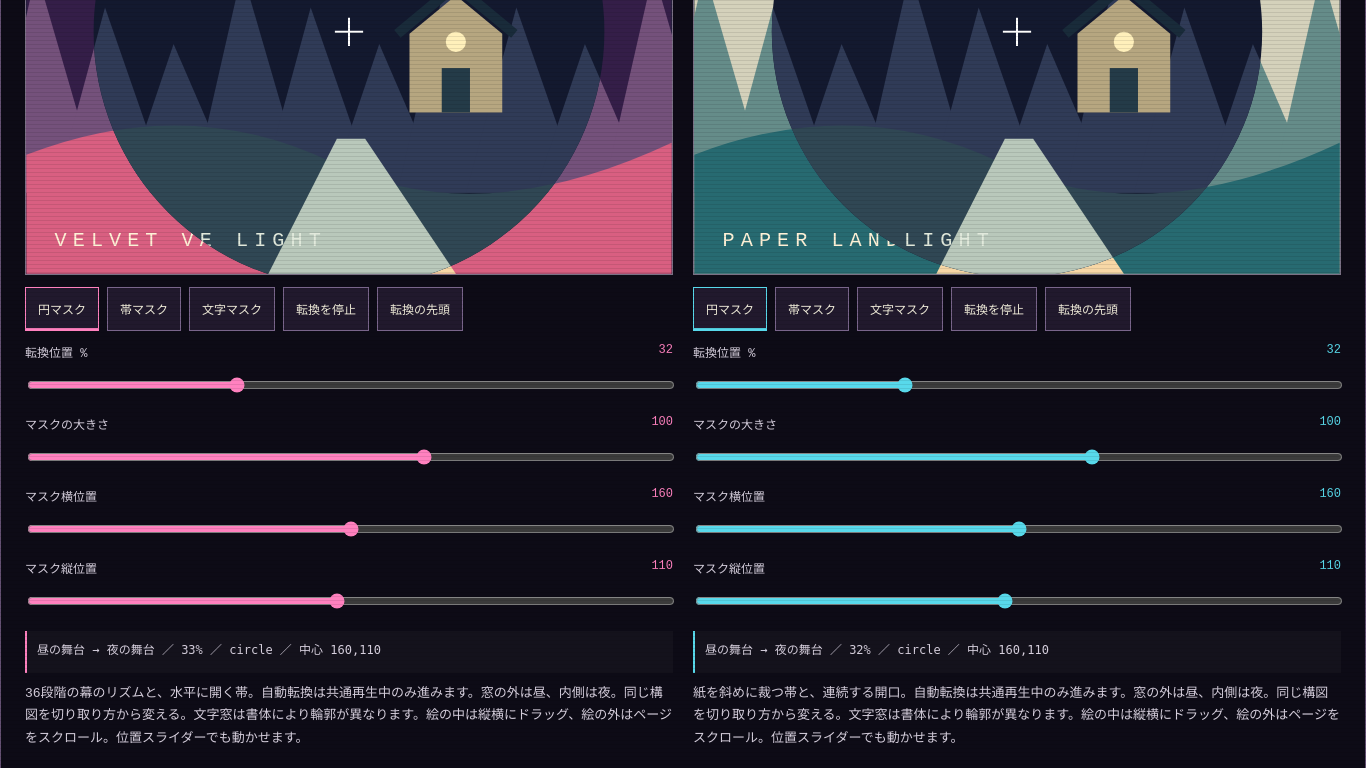
Test case: solo modes retain each side state, Reset resets the pair and reduced motion reports no automatic play
The width and height of the screenshot is (1366, 768).
(page scrolled)
Set the slider labelled "転換位置 %" below "VELVET VALLEY" to "73": {"x": 496, "y": 384} left=27, top=368, right=675, bottom=400
(page scrolled)
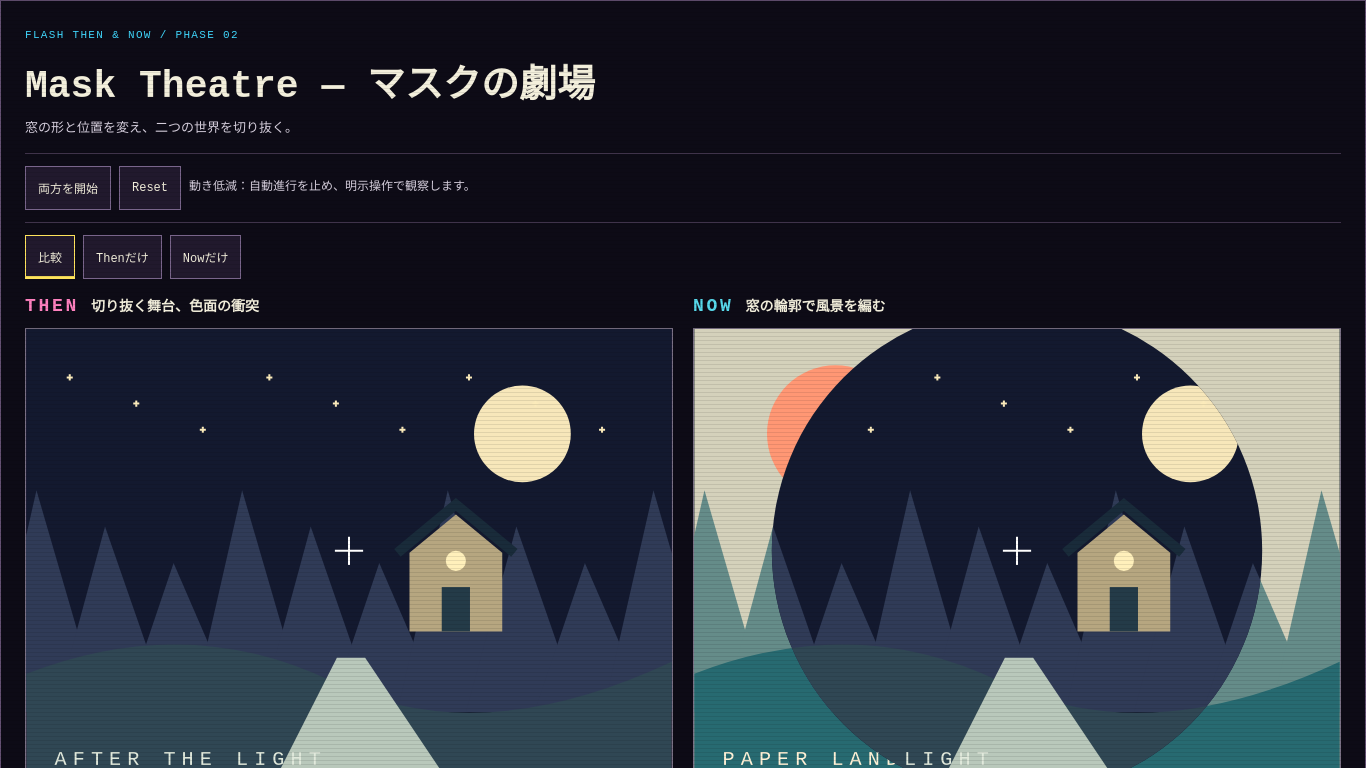
Click the button "Nowだけ": {"x": 206, "y": 257} left=170, top=235, right=241, bottom=279
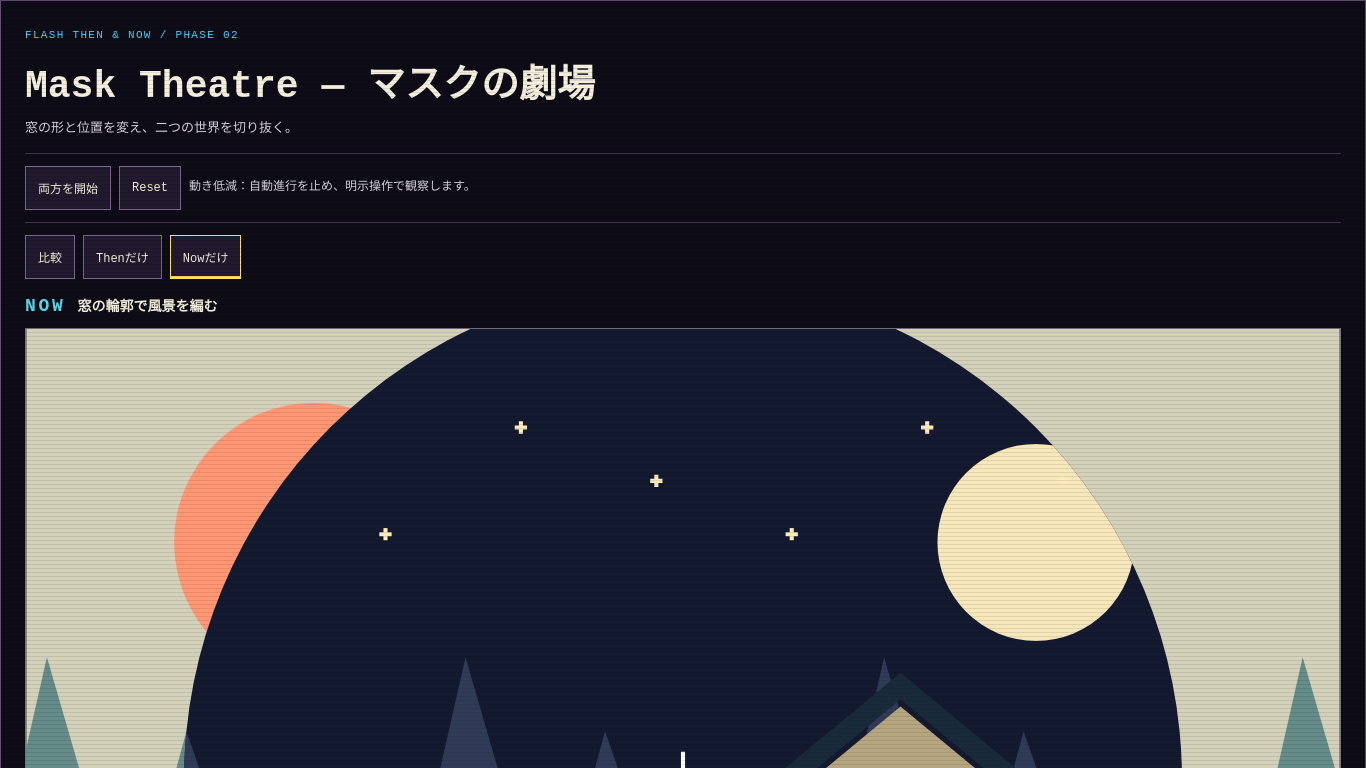
Click the button "比較": {"x": 50, "y": 257} left=25, top=235, right=75, bottom=279
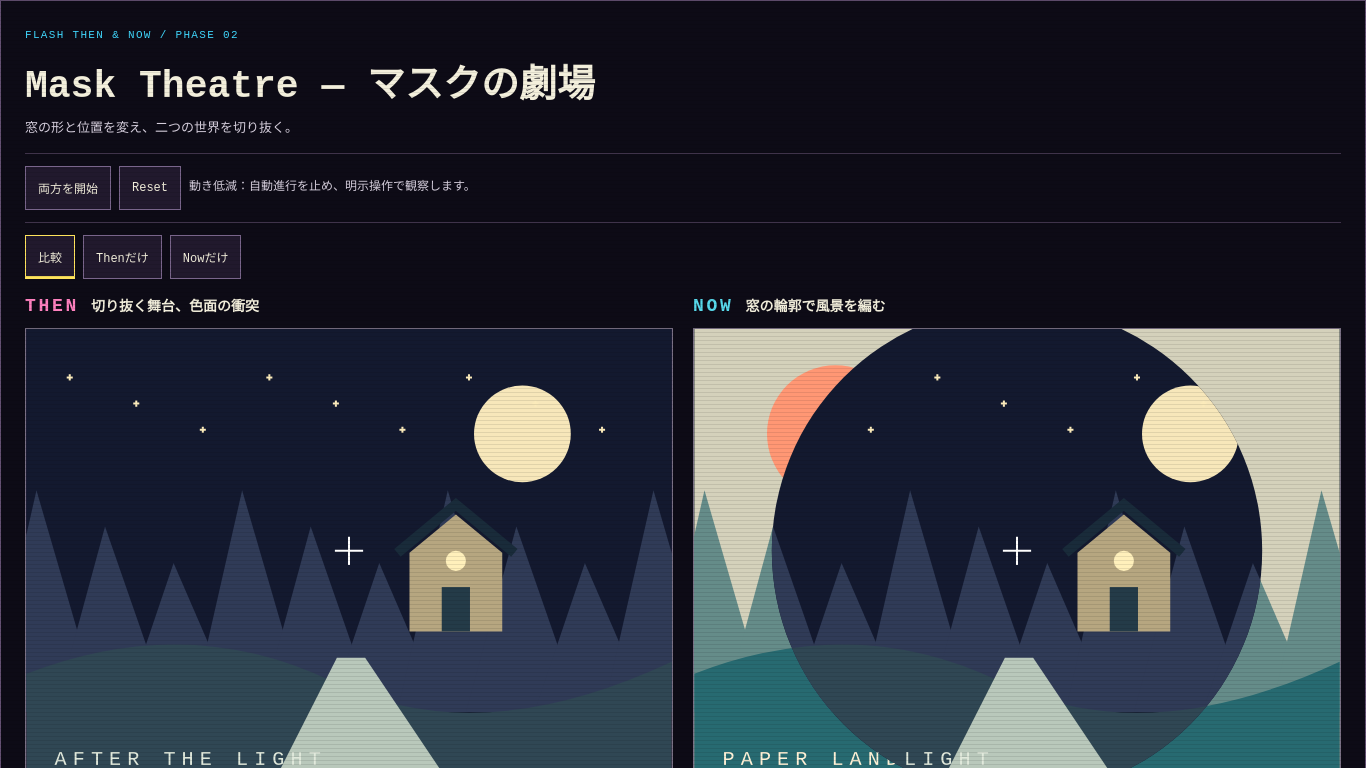
Click the button "両方を開始": {"x": 68, "y": 188} left=25, top=166, right=111, bottom=210
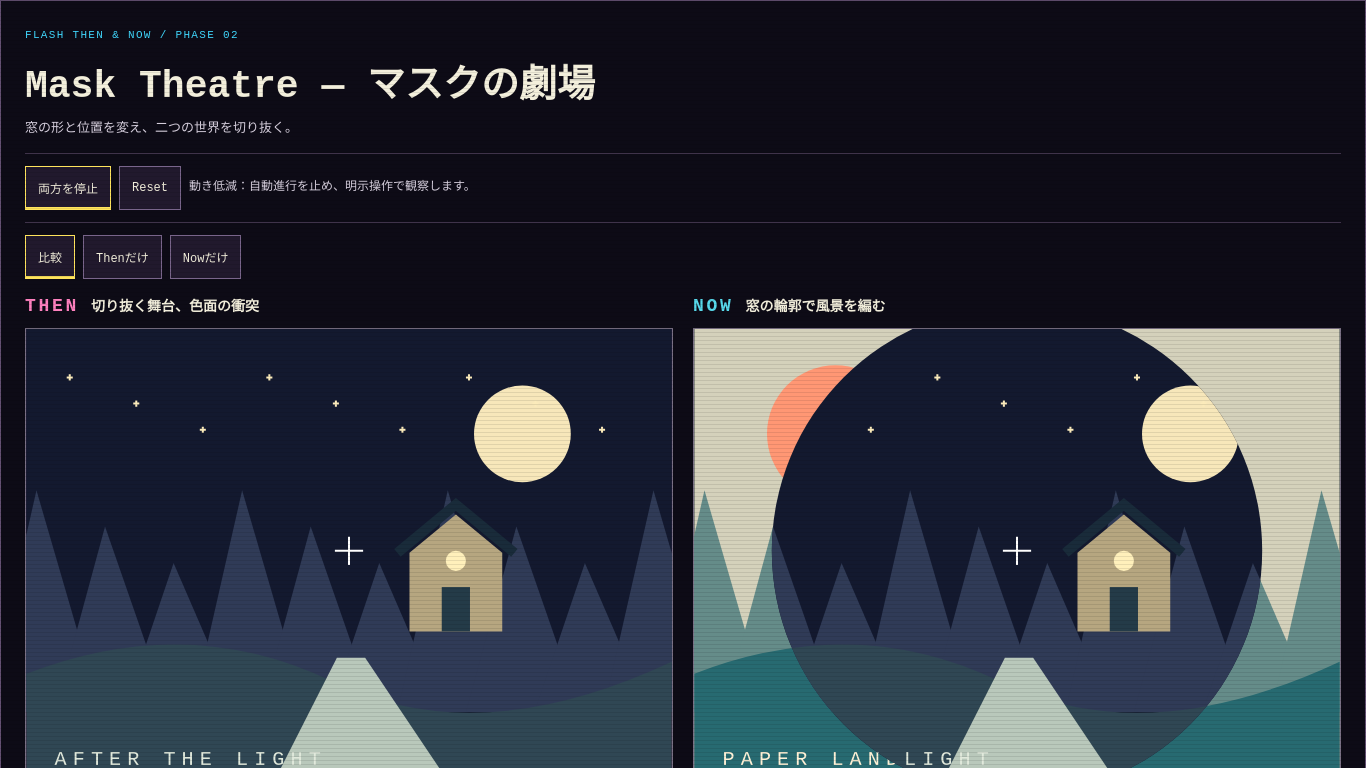
Click the button "Reset": {"x": 150, "y": 188} left=119, top=166, right=181, bottom=210
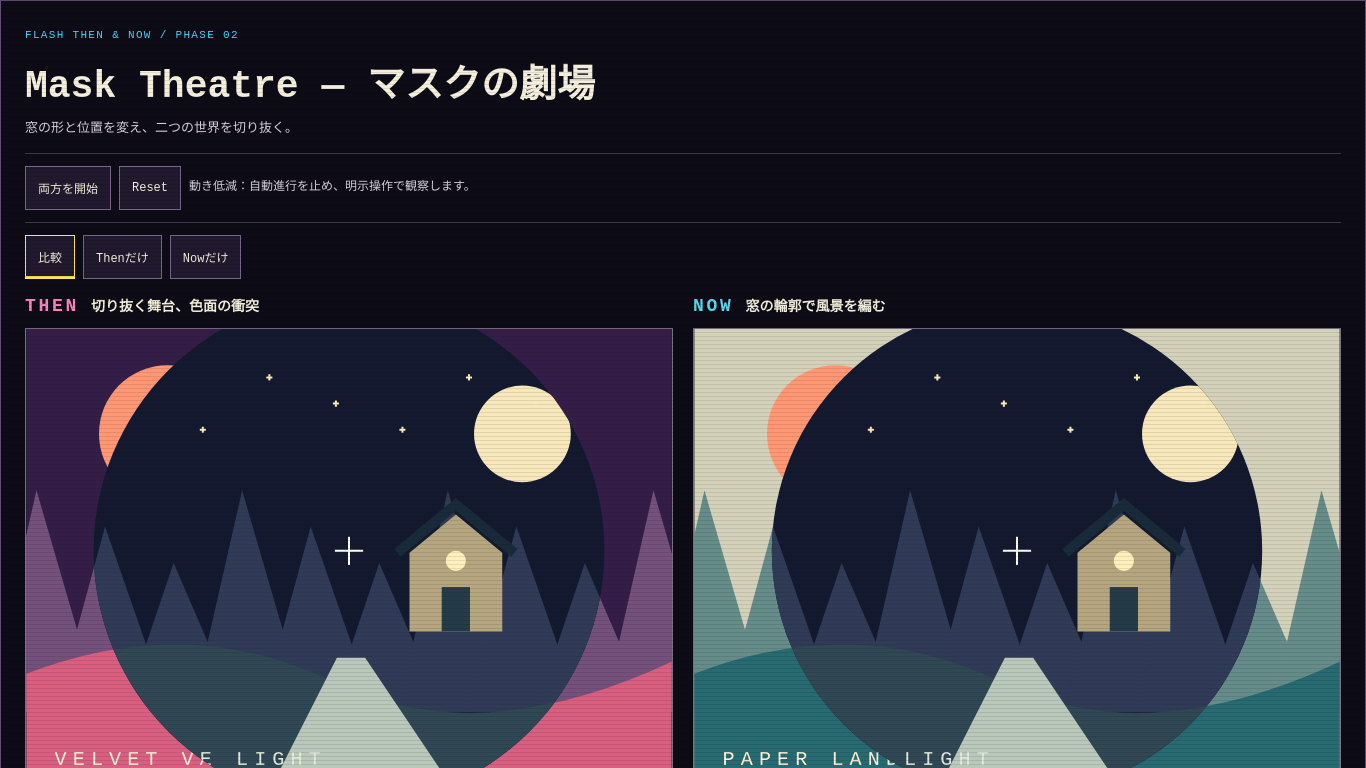
Now the button "両方を開始" is shown, box left=25, top=166, right=111, bottom=210
